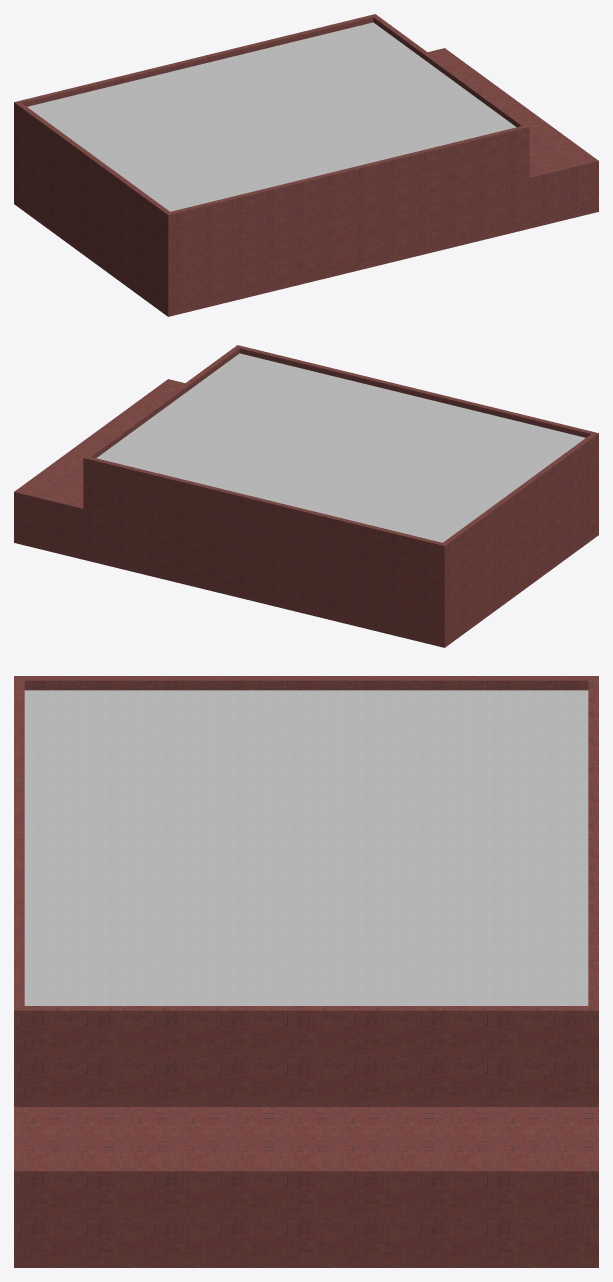
The model's file is Sludge_Thickener.glb.
3 renders of one model, top to bottom at view 1: azimuth 30°, elevation 25°; view 2: azimuth 150°, elevation 25°; view 3: azimuth 270°, elevation 25°, orthographic. The views are drawn at different scales.
Parts seen in each view (by area): view 1: Floor1; view 2: Floor1; view 3: Floor1.
Part boxes in pixels (x1,y1,x2,y2): Floor1: (14, 14, 598, 316); Floor1: (14, 345, 598, 647); Floor1: (14, 676, 598, 1267).
Bounding box in the file's own units: 35.4 × 8 × 21.95.
2 materials, 2 textured.
